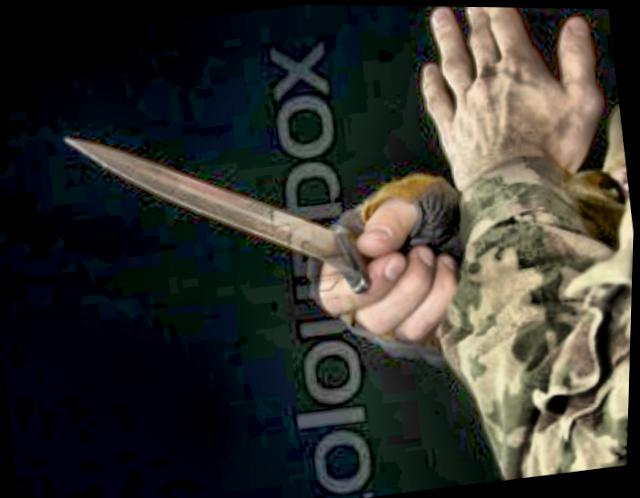knife: (39, 72, 434, 353)
